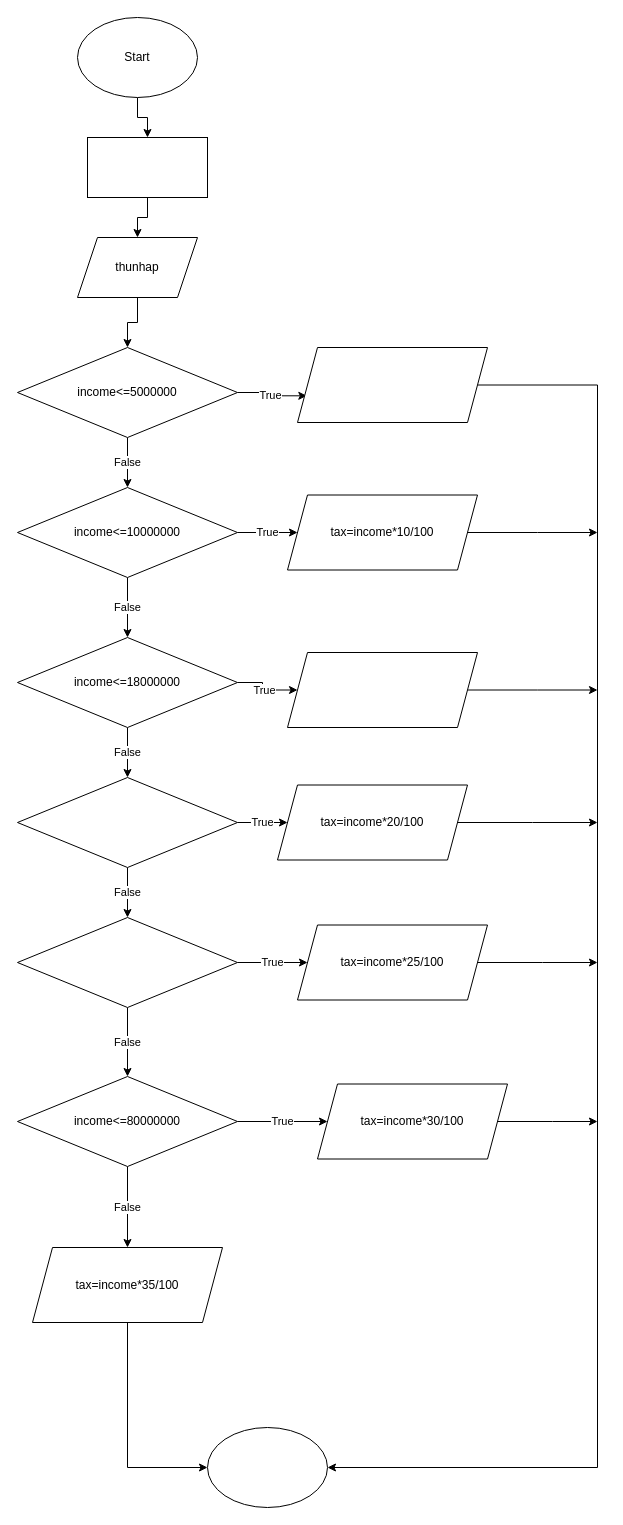
Image size: 623x1525. Some labels were removed from this diagram. Here are the shapes that lost their labels. From the top down, the centre of each, then its label:
At (x=147, y=167): "tax".
At (x=392, y=384): "tax=income*5/100".
At (x=382, y=690): "tax=income*15/100".
At (x=127, y=822): "income<=32000000".
At (x=127, y=962): "income<=52000000".
At (x=267, y=1467): "End".
